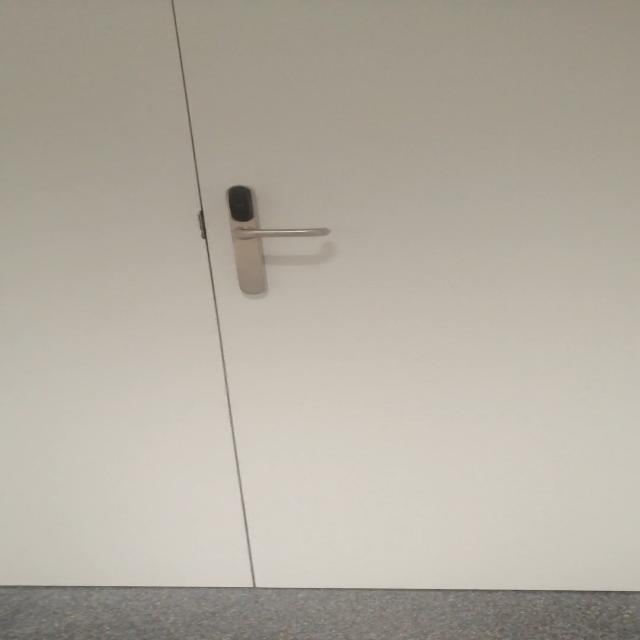door_handle: (225, 224, 336, 242)
